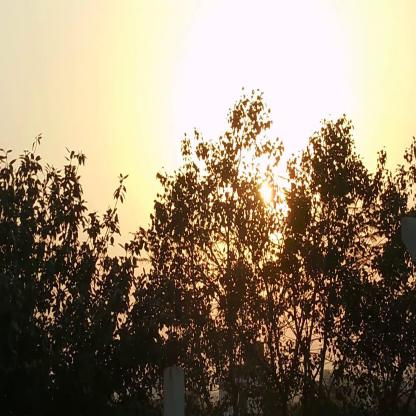other: (149, 2, 378, 257)
